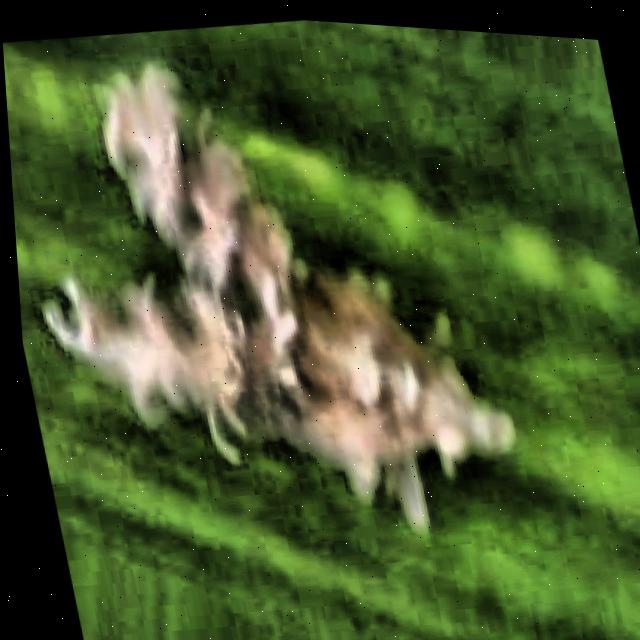Pyrilla-perpusilla: (0, 0, 578, 593)
